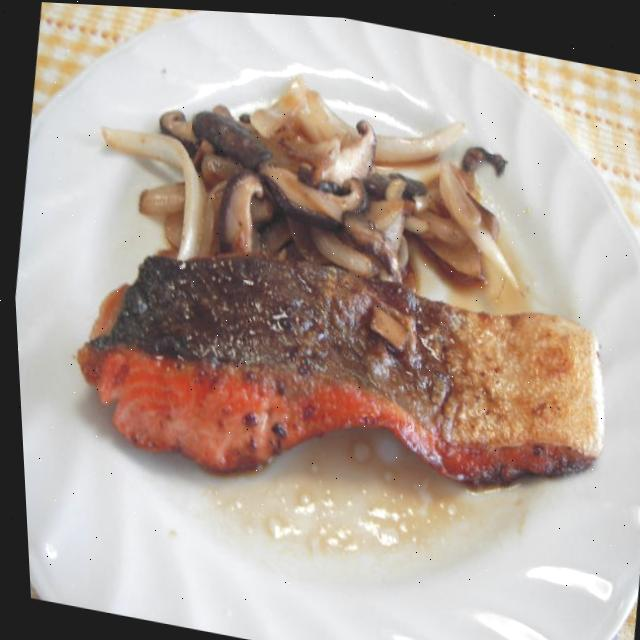熟制海鲜: (44, 193, 622, 555)
